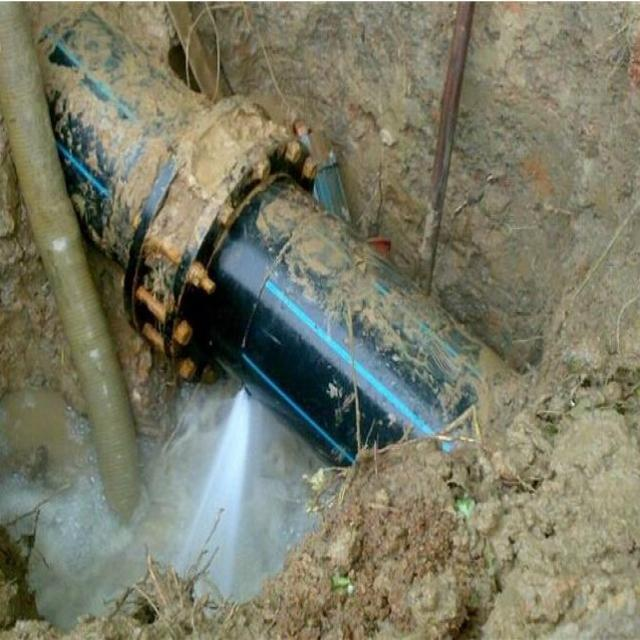leak: (168, 378, 259, 617)
